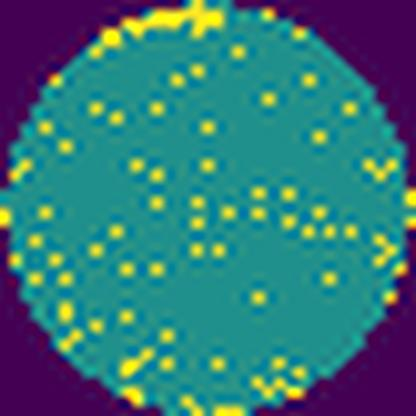Edge-Loc: (120, 0, 226, 47)
